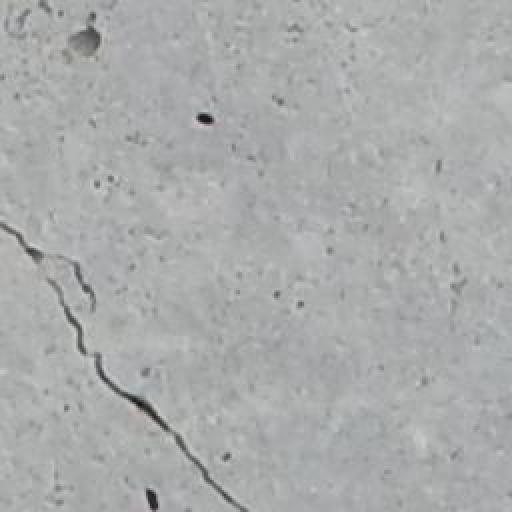spalling: (0, 208, 264, 512)
